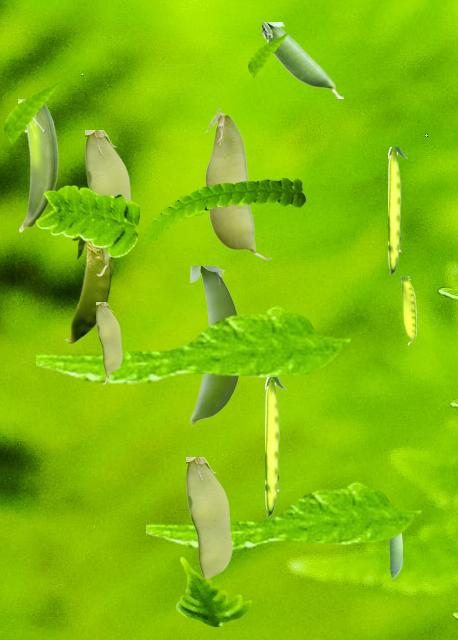pea: (204, 108, 271, 259), (190, 266, 239, 424), (85, 130, 131, 275), (262, 22, 342, 97), (186, 457, 231, 578), (18, 99, 58, 231), (63, 238, 111, 342), (265, 377, 285, 515), (388, 147, 406, 273), (96, 302, 121, 383), (401, 276, 415, 344), (389, 536, 401, 577)
